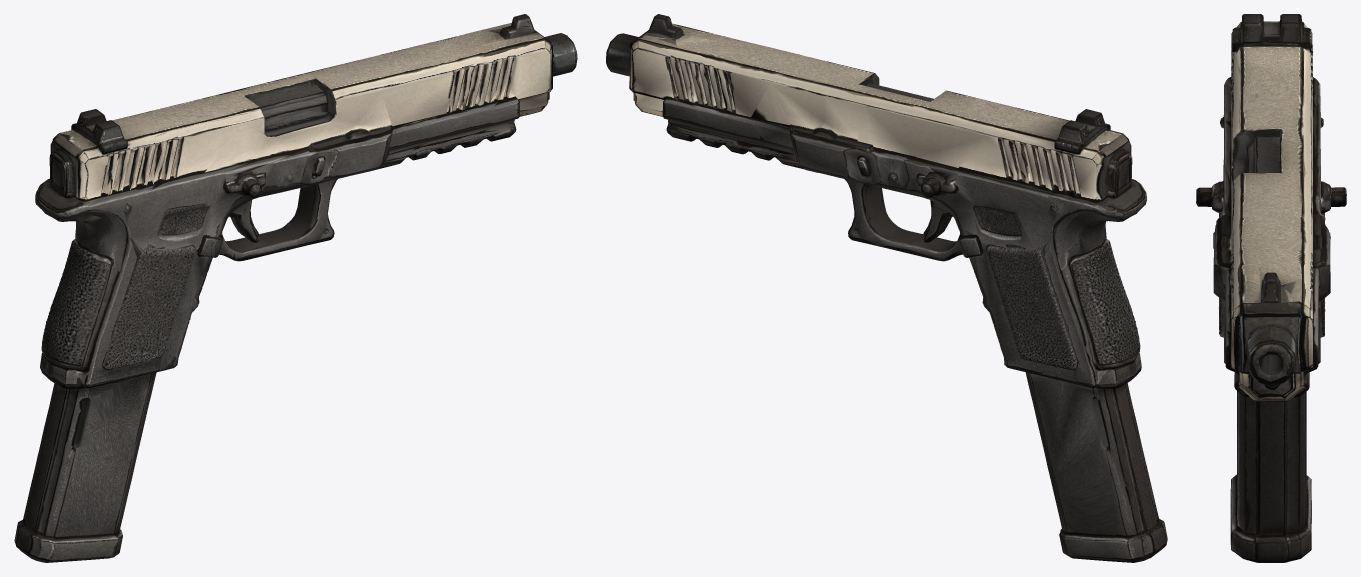
The model's file is burst.glb.
3 views of the same model, side by side, from view 1: azimuth 30°, elevation 25°; view 2: azimuth 150°, elevation 25°; view 3: azimuth 270°, elevation 25° (orthographic). The views are drawn at different scales.
Parts seen in each view (by area): view 1: tripo_node_0c433dbb-2724-435b-a600-540d2965c161; view 2: tripo_node_0c433dbb-2724-435b-a600-540d2965c161; view 3: tripo_node_0c433dbb-2724-435b-a600-540d2965c161.
Boxes of the visible parts, bbox=[...] form: tripo_node_0c433dbb-2724-435b-a600-540d2965c161: bbox=[14, 14, 577, 562]; tripo_node_0c433dbb-2724-435b-a600-540d2965c161: bbox=[606, 14, 1167, 562]; tripo_node_0c433dbb-2724-435b-a600-540d2965c161: bbox=[1196, 14, 1346, 562].
Bounding box in the file's own units: 0.9787 × 0.7371 × 0.1862.
1 material, 1 textured.
